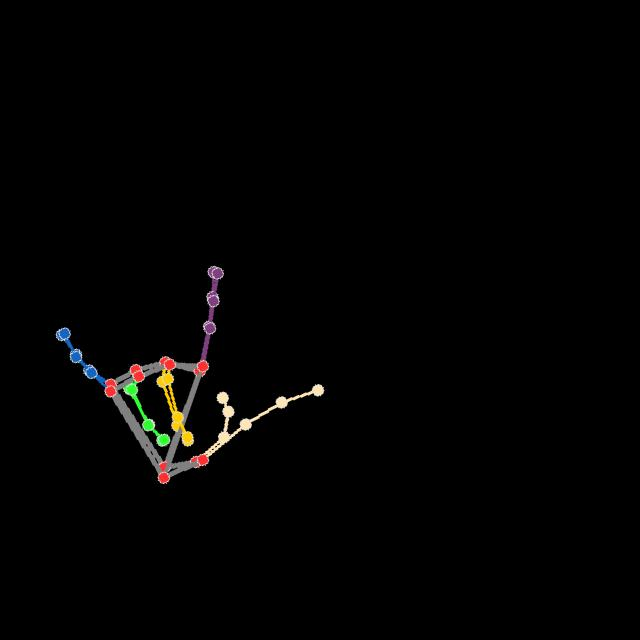spiderman: (53, 263, 326, 498)
